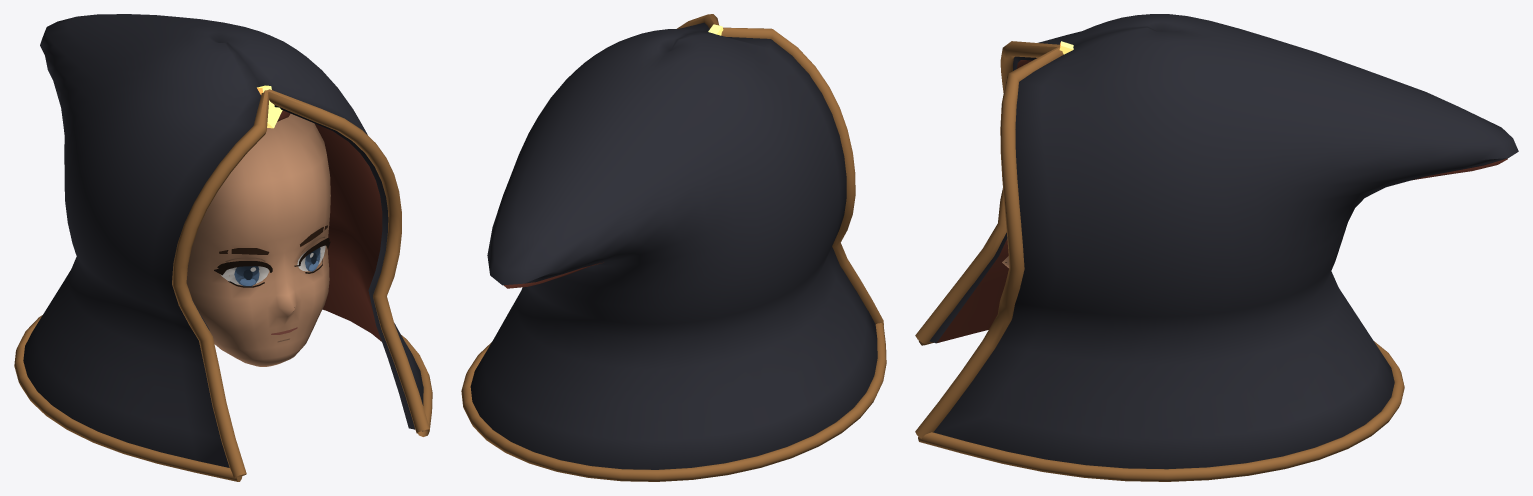
File: h_ember.glb
3 renders of one model, left to right at view 1: azimuth 30°, elevation 25°; view 2: azimuth 150°, elevation 25°; view 3: azimuth 270°, elevation 25°, orthographic. The views are drawn at different scales.
Parts seen in each view (by area): view 1: Hood, HeadMesh, LashR; view 2: Hood; view 3: Hood.
Part boxes in pixels (bbox=[...]): Hood: bbox=[14, 14, 432, 481]; HeadMesh: bbox=[186, 113, 330, 366]; LashR: bbox=[214, 261, 272, 287]; Hood: bbox=[461, 14, 886, 481]; Hood: bbox=[915, 14, 1518, 481].
Bounding box in the file's own units: 0.3768 × 0.3547 × 0.5291.
